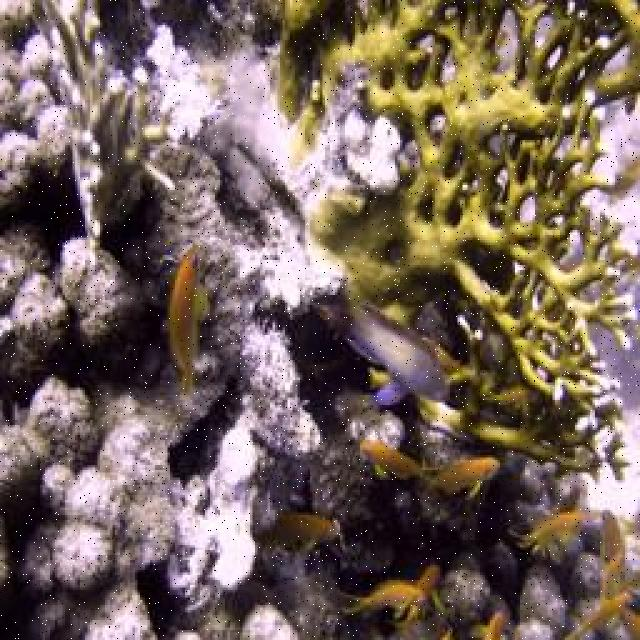fish: (310, 300, 452, 408), (168, 245, 209, 395), (510, 512, 590, 556), (421, 457, 505, 498), (570, 586, 635, 638), (359, 438, 434, 480), (336, 581, 422, 617), (277, 512, 342, 552), (410, 566, 452, 618), (599, 510, 628, 565), (598, 552, 624, 602), (470, 609, 505, 638), (487, 386, 530, 409), (437, 350, 466, 375), (612, 611, 638, 638)
reefs: (276, 0, 638, 482), (31, 1, 183, 241)
